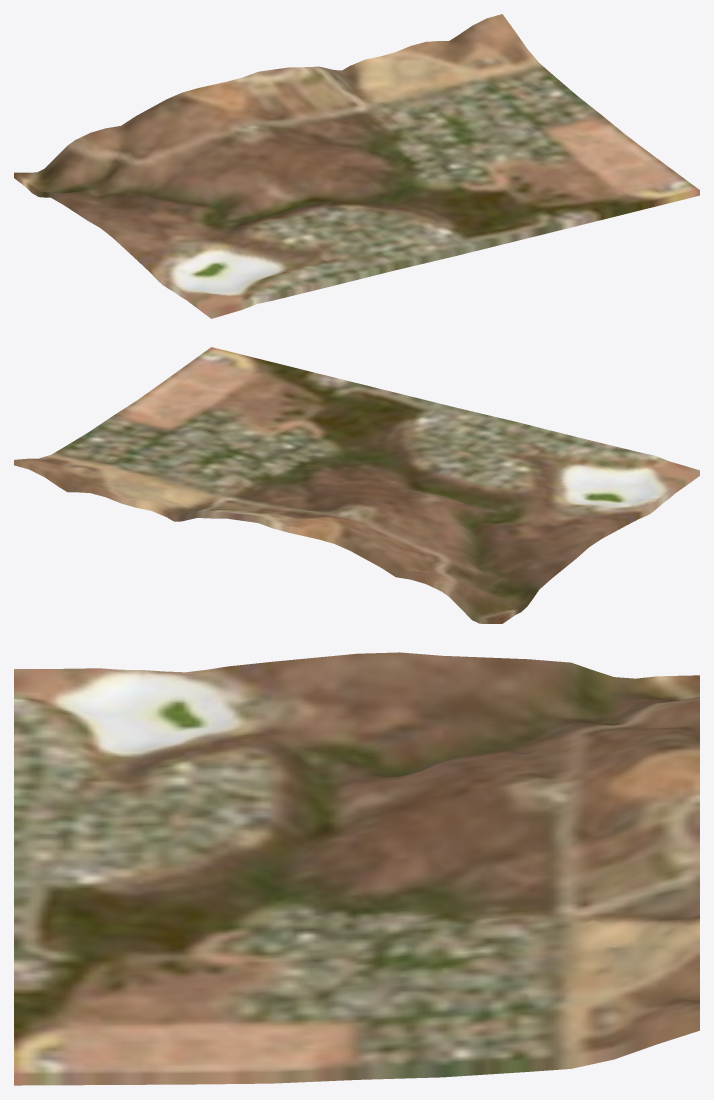
The model's file is terrain_r2_c3_lod2.glb.
3 views of the same model, one above another, from view 1: azimuth 30°, elevation 25°; view 2: azimuth 150°, elevation 25°; view 3: azimuth 270°, elevation 25° (orthographic). The views are drawn at different scales.
Parts seen in each view (by area): view 1: terrain_r2_c3_lod2; view 2: terrain_r2_c3_lod2; view 3: terrain_r2_c3_lod2.
Part boxes in pixels (box(x1,y1,x2,y2)): terrain_r2_c3_lod2: box(14, 14, 699, 318); terrain_r2_c3_lod2: box(14, 347, 699, 623); terrain_r2_c3_lod2: box(14, 652, 699, 1085).
Bounding box in the file's own units: 1125 × 115 × 787.
1 material, 1 textured.
